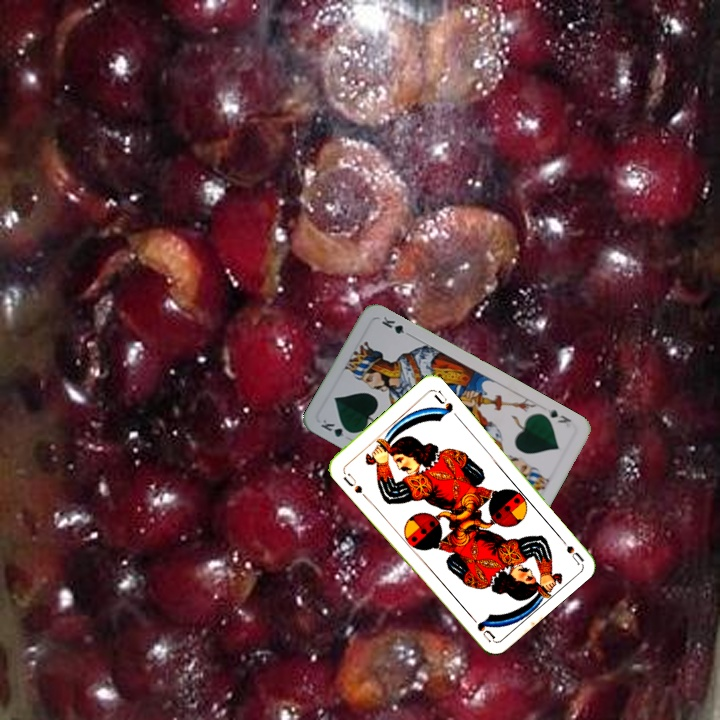GK: (316, 415, 356, 440), (544, 405, 574, 426)
SU: (553, 530, 585, 566), (339, 469, 365, 496)
